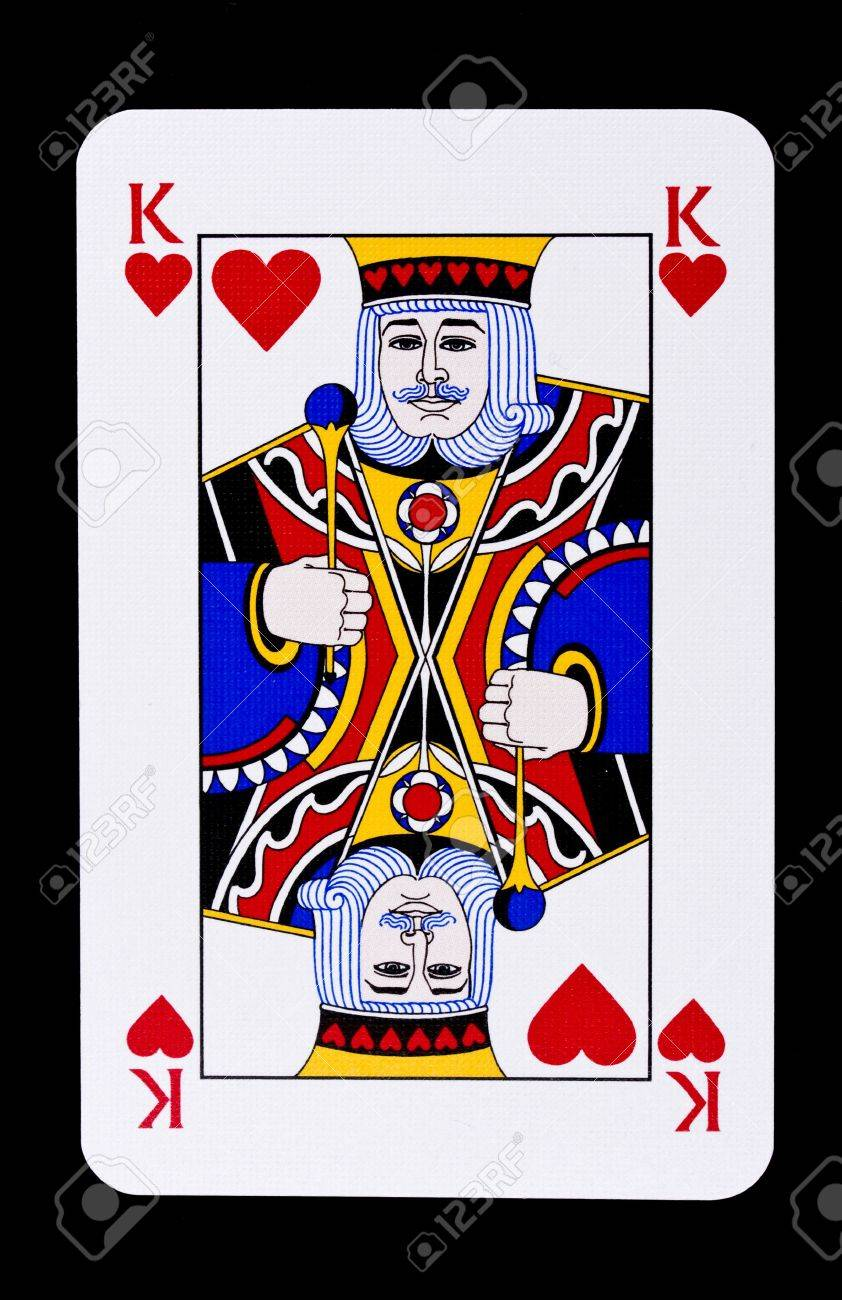king of hearts: (74, 110, 780, 1190)
